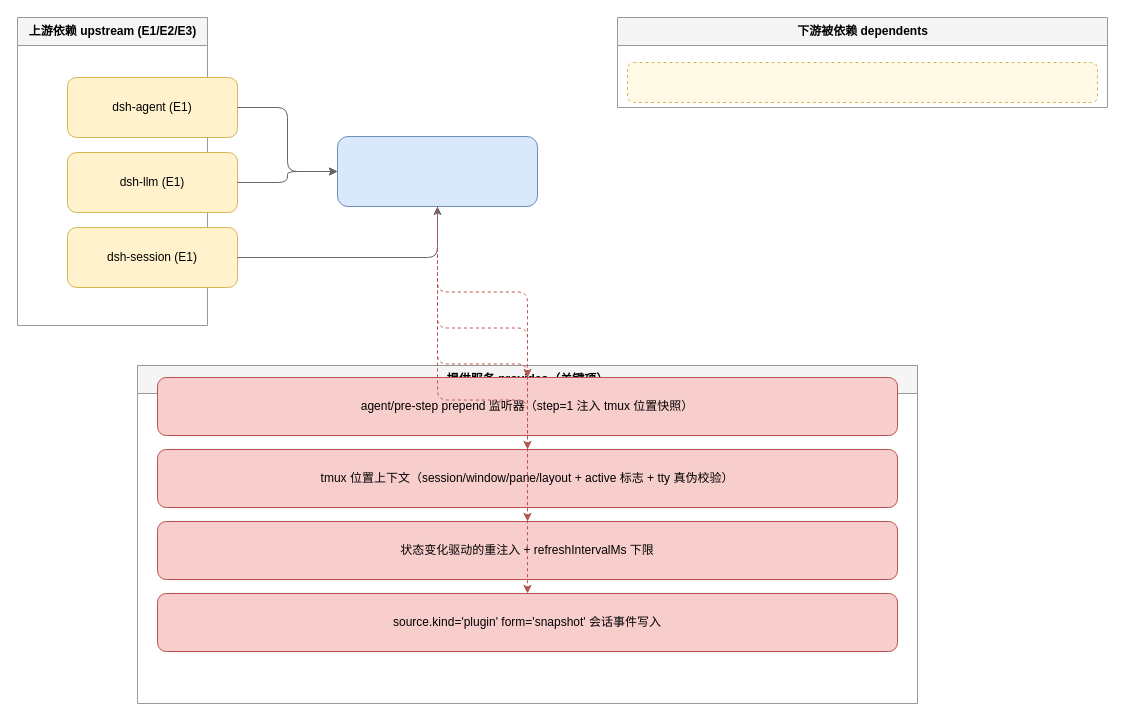
Image size: 1125x721. Some labels were removed from this diagram. Each missing label, with the centre of its shape:
"@deepseek-ai/dsh-tmux-context" goes at [437,171].
"… 无下游依赖（L3 扩展点，共 0 个）" goes at [862,82].
